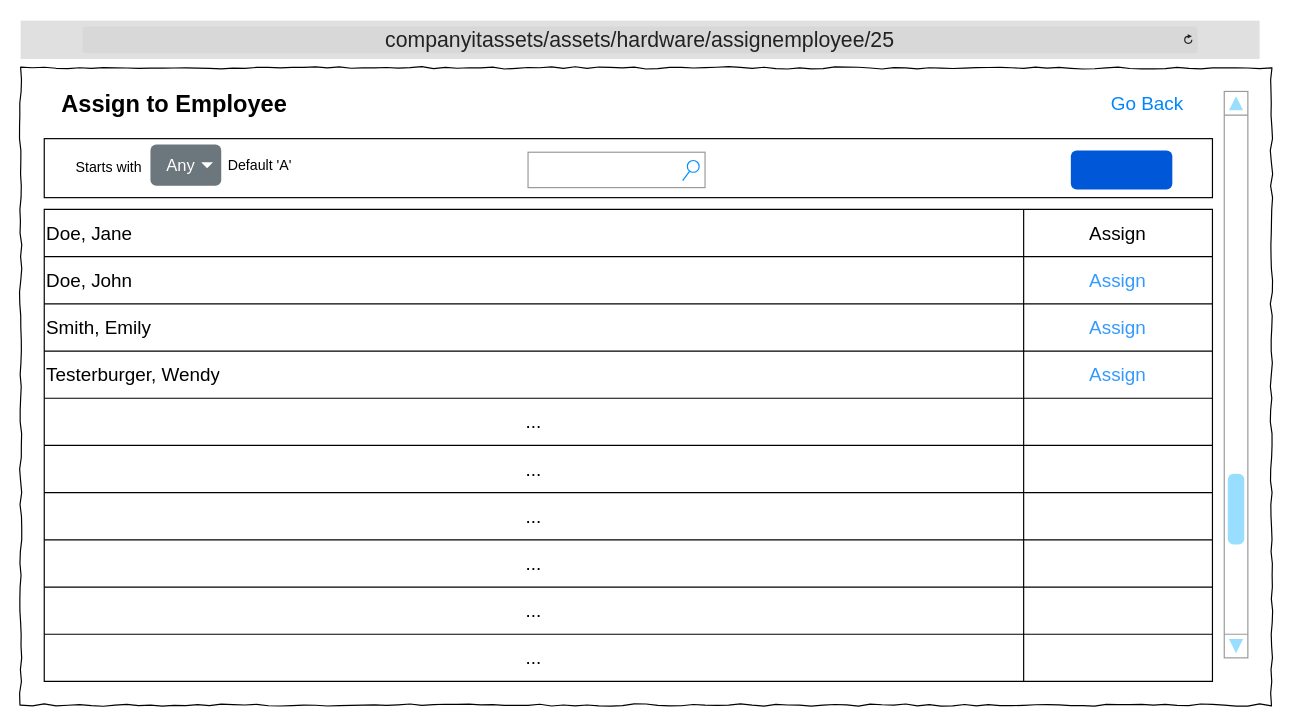
This 1292x726 diagram has some shape labels left out. Here are the shapes that lost their labels. From the top down, the centre of each, then its label:
point (616, 169): Search
point (1121, 169): Apply
